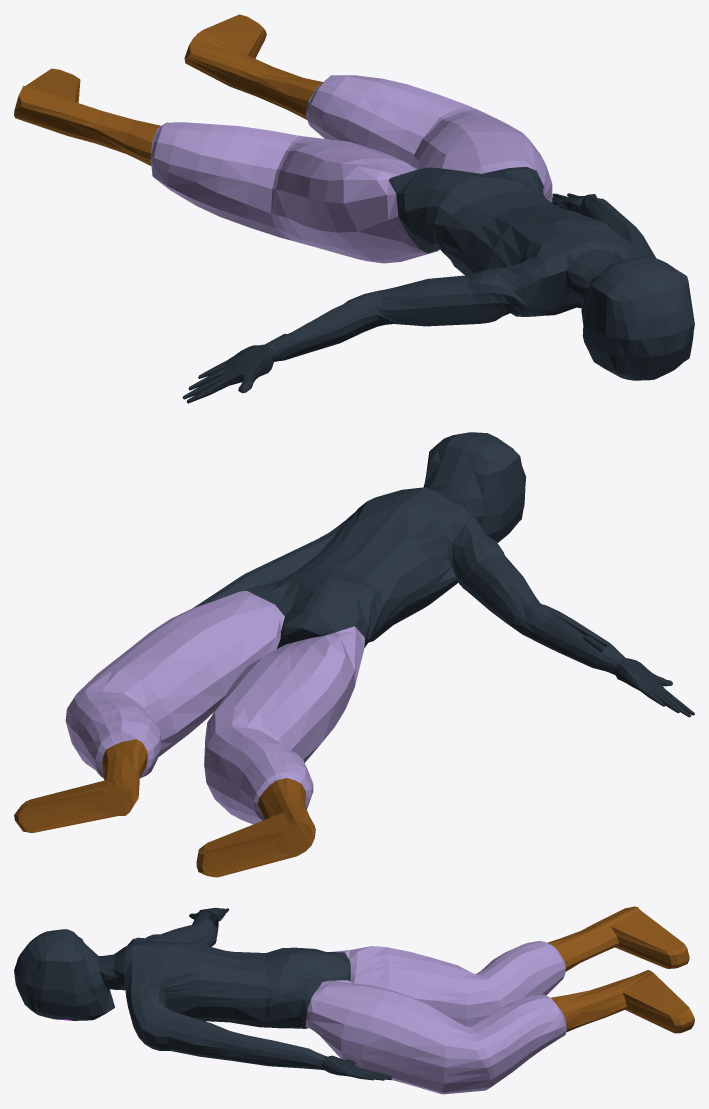
Rendered from Oracle_Die_000013.obj.
3 views of the same model, one above another, from view 1: azimuth 30°, elevation 25°; view 2: azimuth 150°, elevation 25°; view 3: azimuth 270°, elevation 25° (orthographic). The views are drawn at different scales.
Parts seen in each view (by area): view 1: Cube; view 2: Cube; view 3: Cube.
Boxes of the visible parts, x1,y1,x2,y2 form: Cube: [14, 14, 694, 403]; Cube: [14, 432, 694, 877]; Cube: [14, 906, 694, 1094].
Size of the model in its own units: 2.35 by 0.7992 by 3.89.
